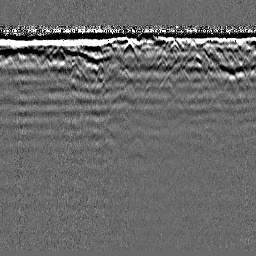cavity: (123, 40, 136, 55)
